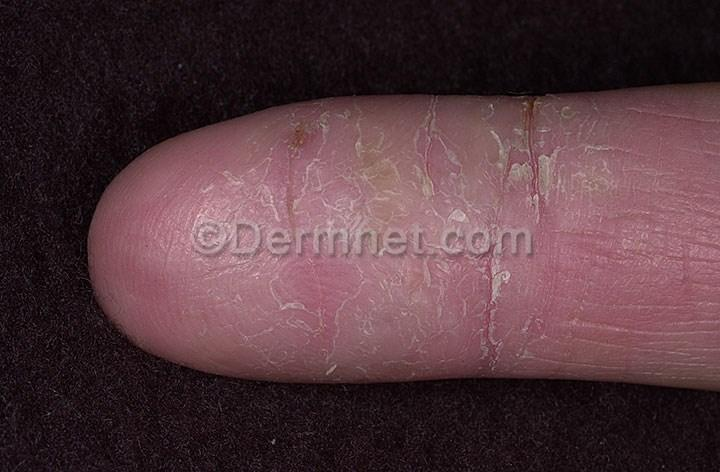Eczema: (394, 282, 469, 352), (304, 270, 385, 334), (214, 278, 300, 334), (496, 252, 563, 323), (530, 102, 586, 182), (477, 175, 533, 248), (293, 212, 369, 265), (284, 161, 364, 210), (424, 163, 475, 234), (219, 170, 284, 225), (214, 234, 291, 278), (607, 262, 651, 338), (537, 187, 586, 255), (590, 94, 624, 189), (311, 339, 396, 377), (424, 102, 478, 161), (375, 227, 435, 279), (481, 102, 527, 169), (214, 342, 306, 375), (595, 192, 639, 257), (565, 257, 608, 321), (365, 167, 414, 222), (384, 100, 424, 163), (341, 101, 382, 161), (498, 326, 556, 367), (278, 113, 335, 153), (468, 282, 497, 358), (438, 238, 486, 281), (236, 119, 275, 171), (557, 321, 605, 358), (392, 355, 464, 377), (610, 341, 644, 384), (516, 364, 578, 385), (585, 358, 613, 385), (468, 359, 509, 376)
